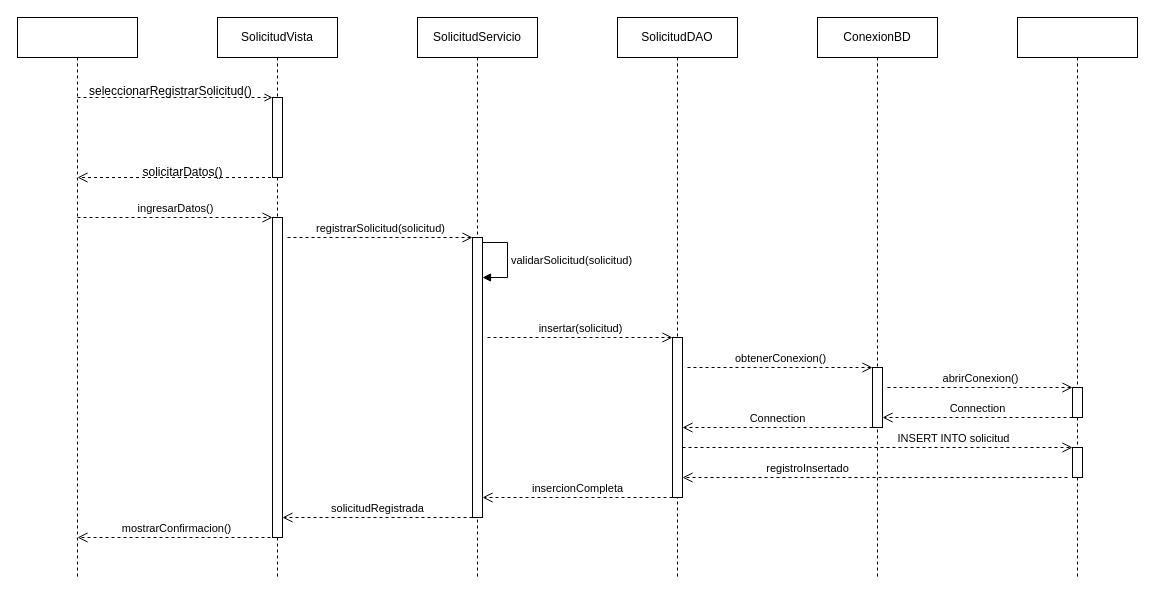
The diagram is 1155 pixels wide and 595 high, and some of its shapes have lost their labels. The shapes that lost their labels are listed below. From the top down, each one's box as (x1, y1, x2, y2) in pixels, then its label:
(16, 16, 138, 578): Usuario solicitante
(1016, 16, 1138, 578): Base de Datos MySQL
